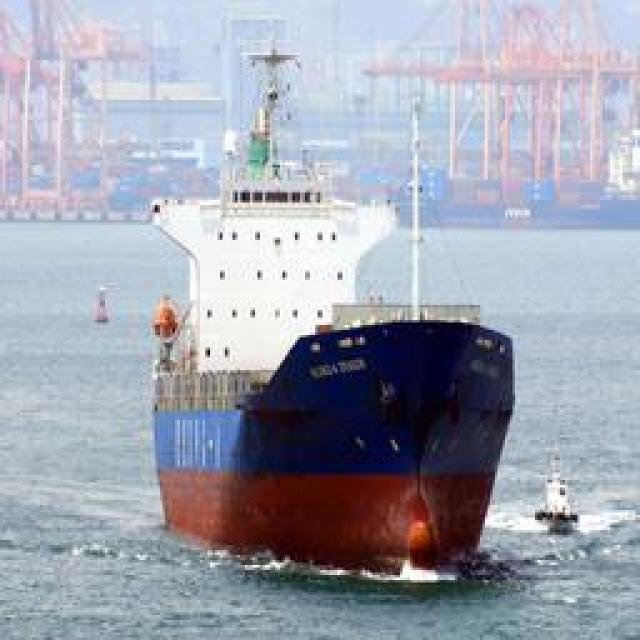CIV_Ship: (162, 320, 520, 575)
